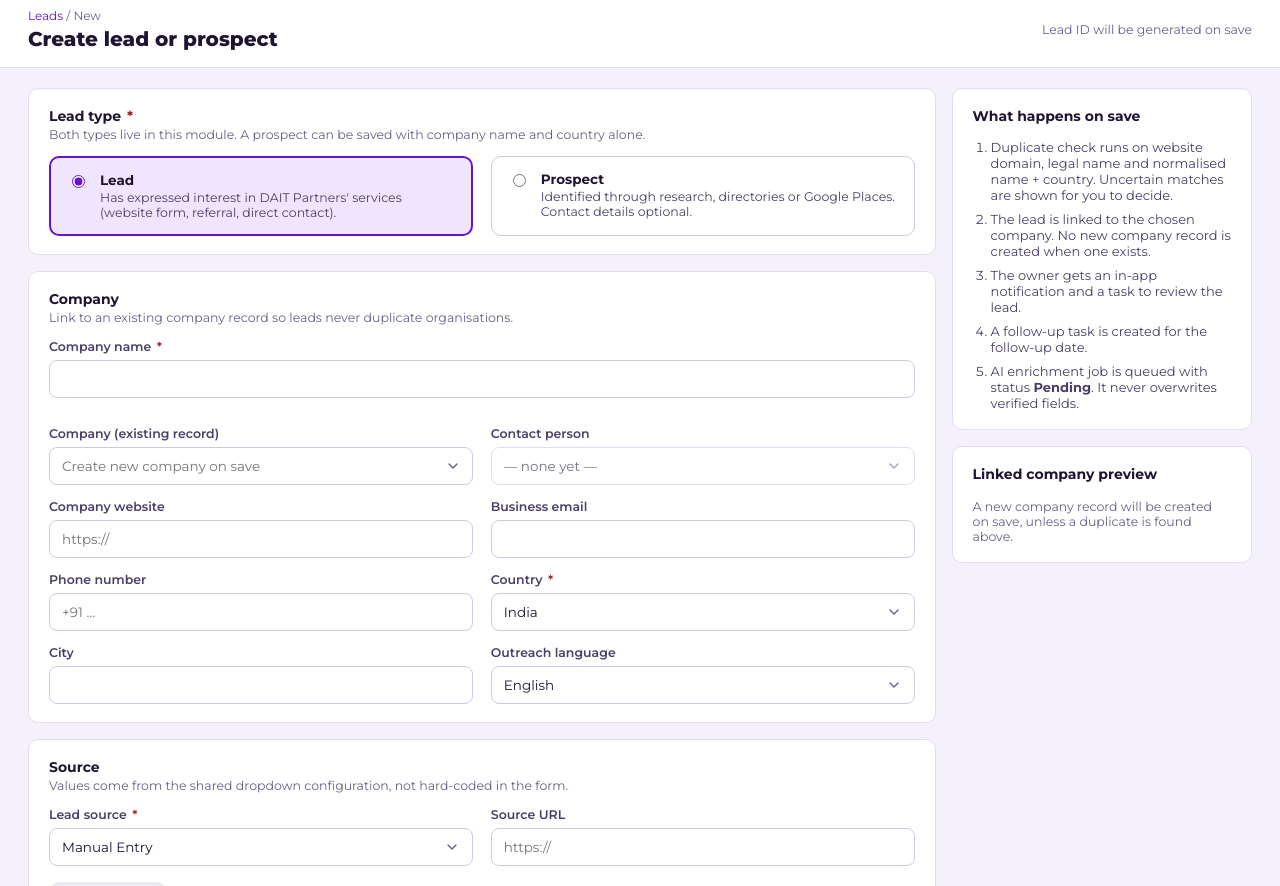
Test: NewLeadPage › maps a 400 with array issue paths onto the field and shows the form note
The width and height of the screenshot is (1280, 886).
In the field labelled "Company name *": point(482, 379) [49,360,915,398], type "Acme Retail"
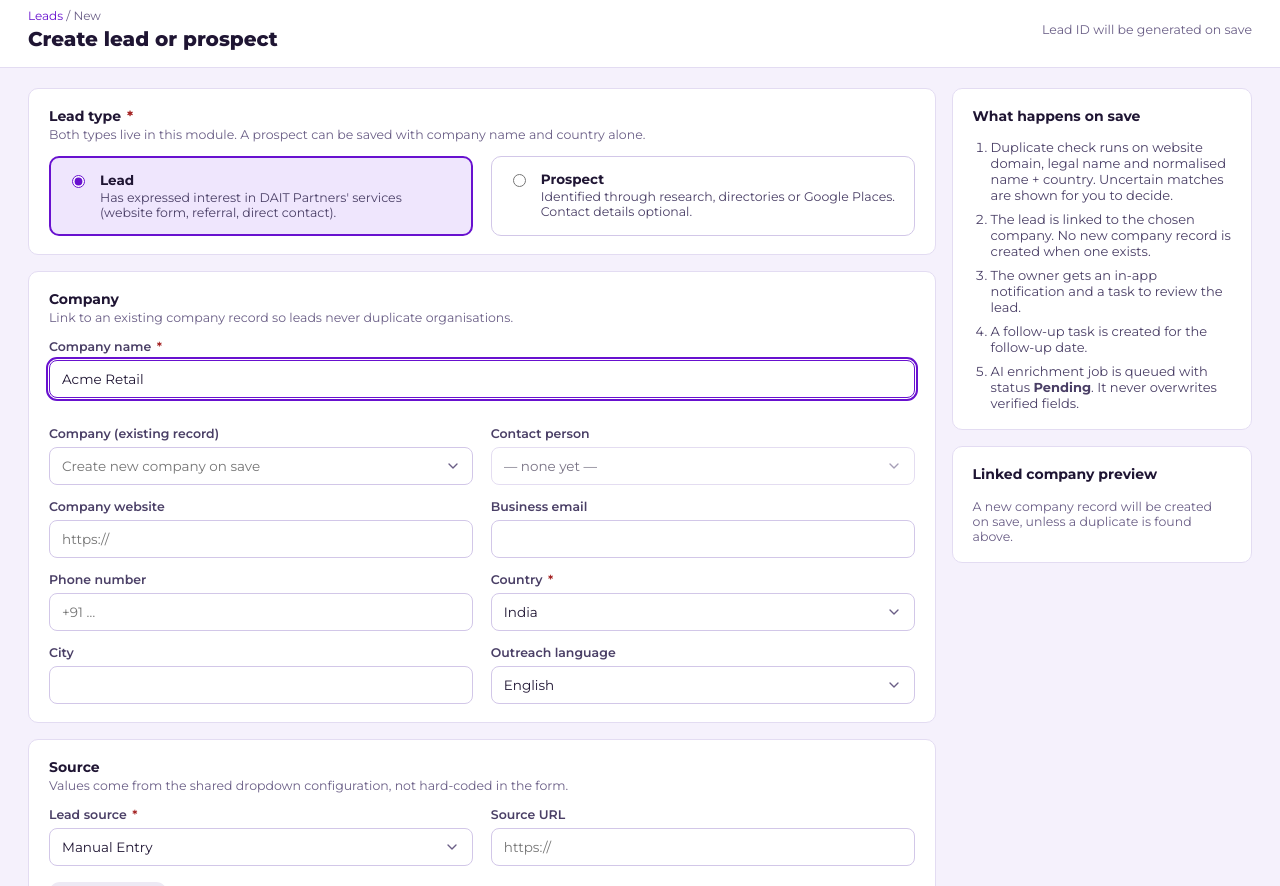
In the field labelled "Company website": point(261, 539) [49,520,473,558], type "https://acme.example"
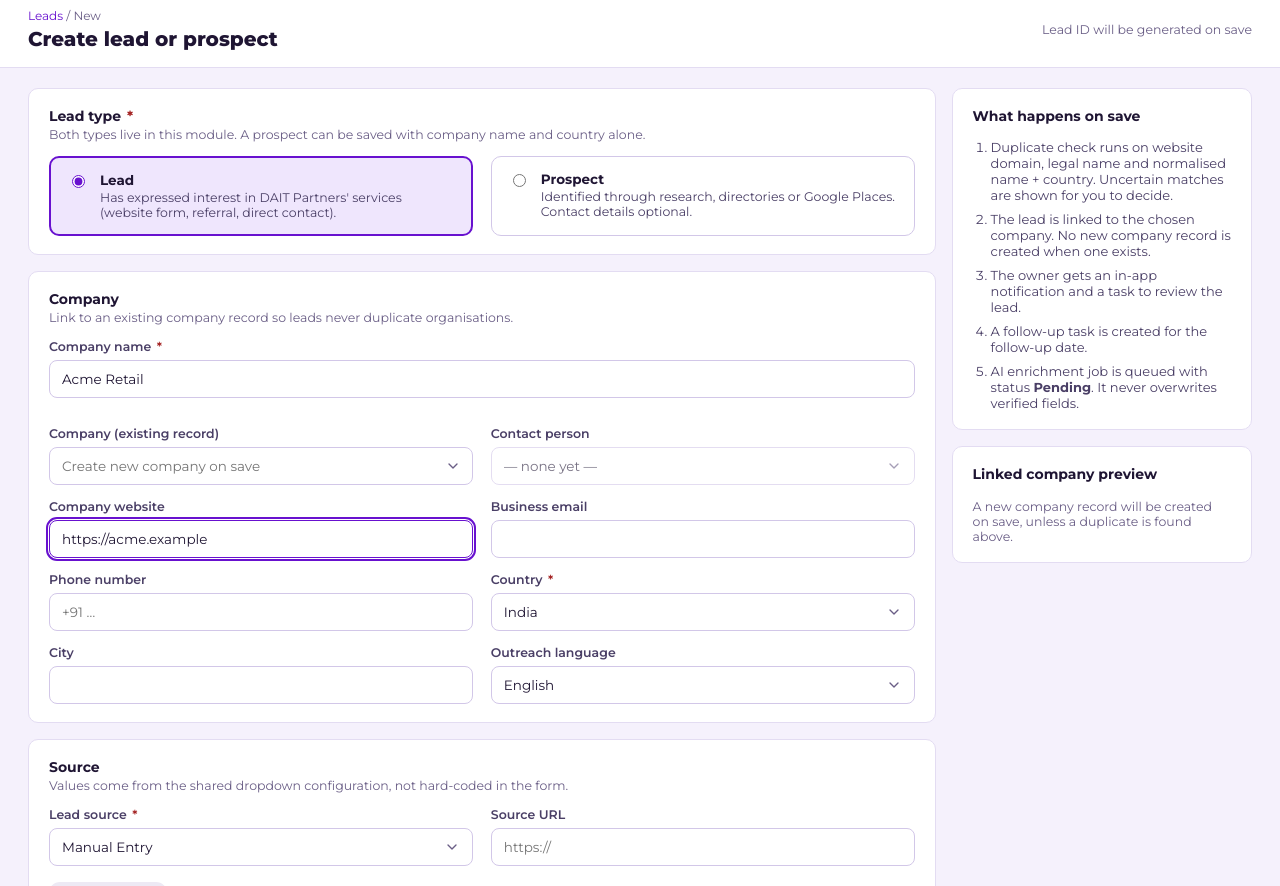
Select "Germany" in the dropdown labelled "Country *": point(703, 612) [491,593,915,631]
(page scrolled)
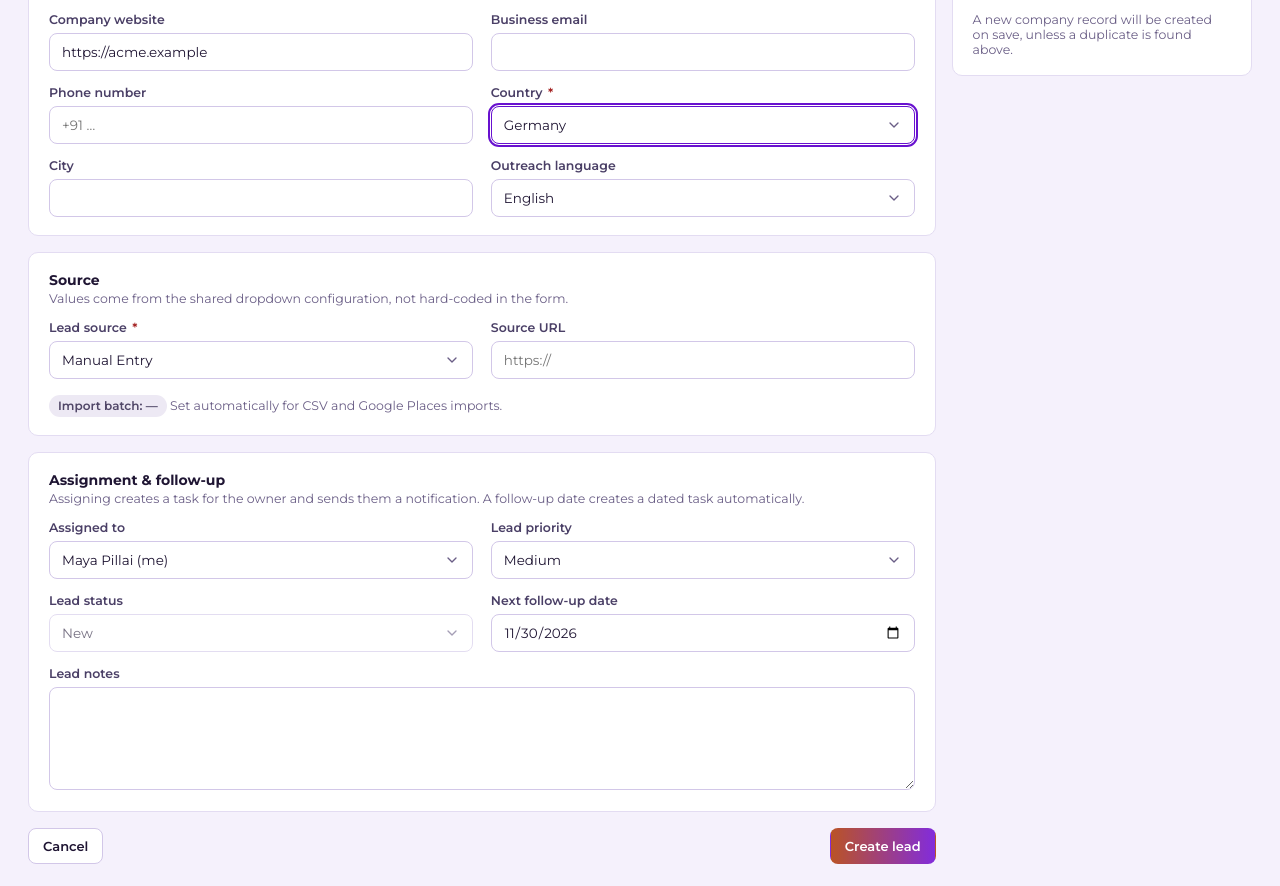
Click the button "Create lead": point(883, 846) [830,828,936,864]
(page scrolled)
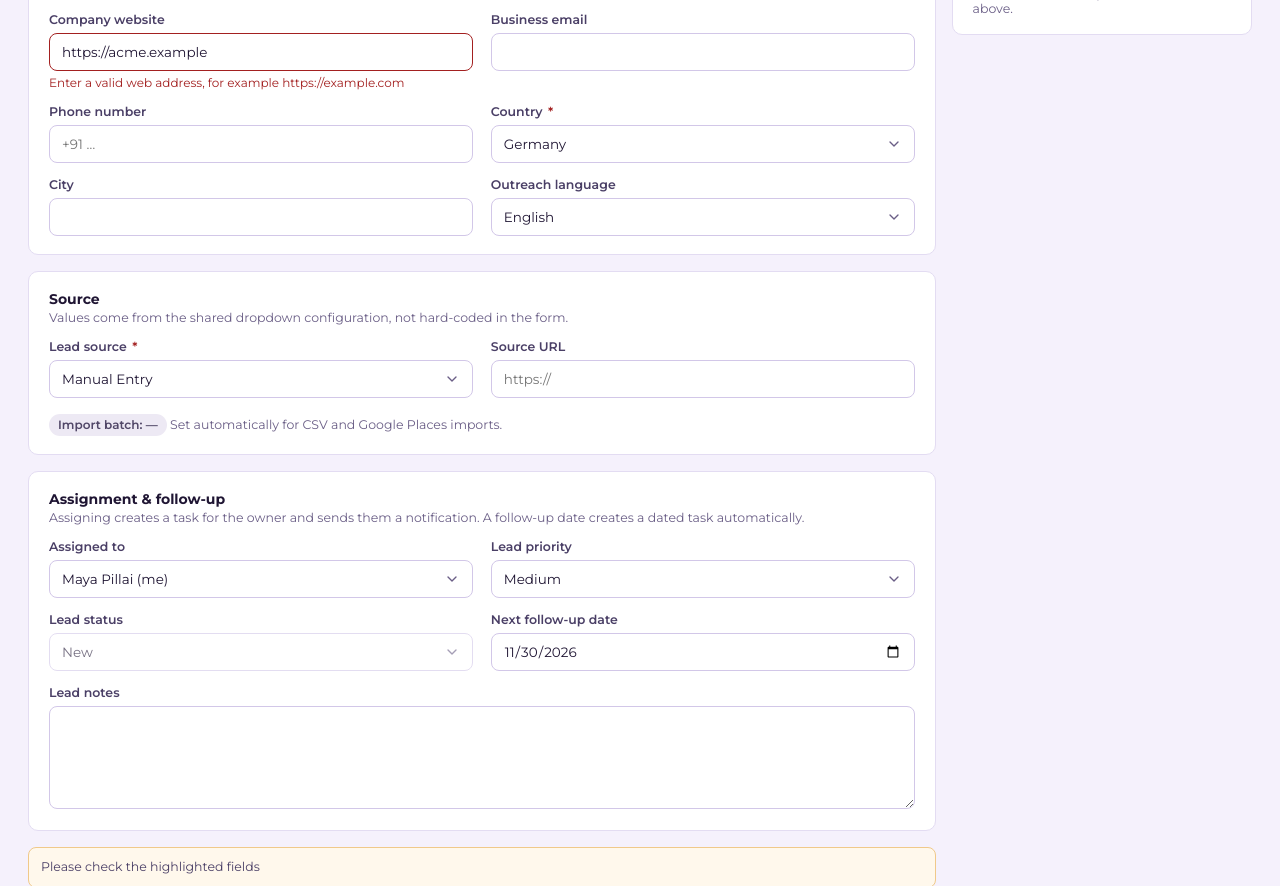
Now the text "Enter a valid web address, for example https://example.com" is shown, box [49,75,404,90]
